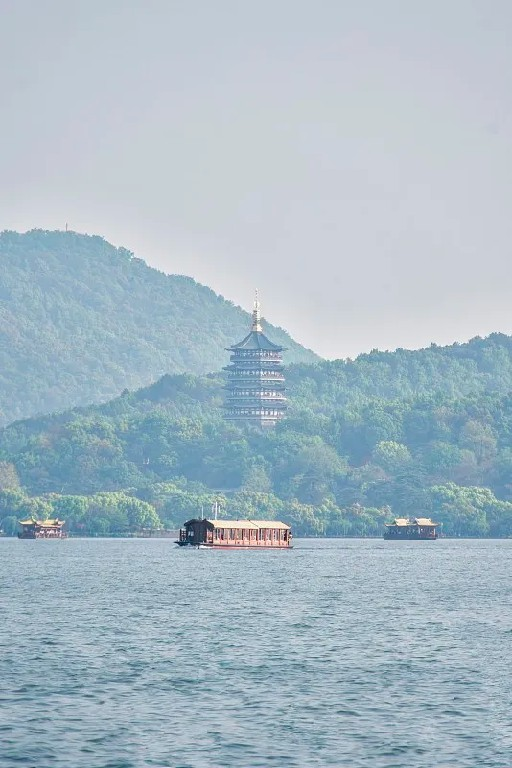Leifeng: (218, 286, 298, 441)
